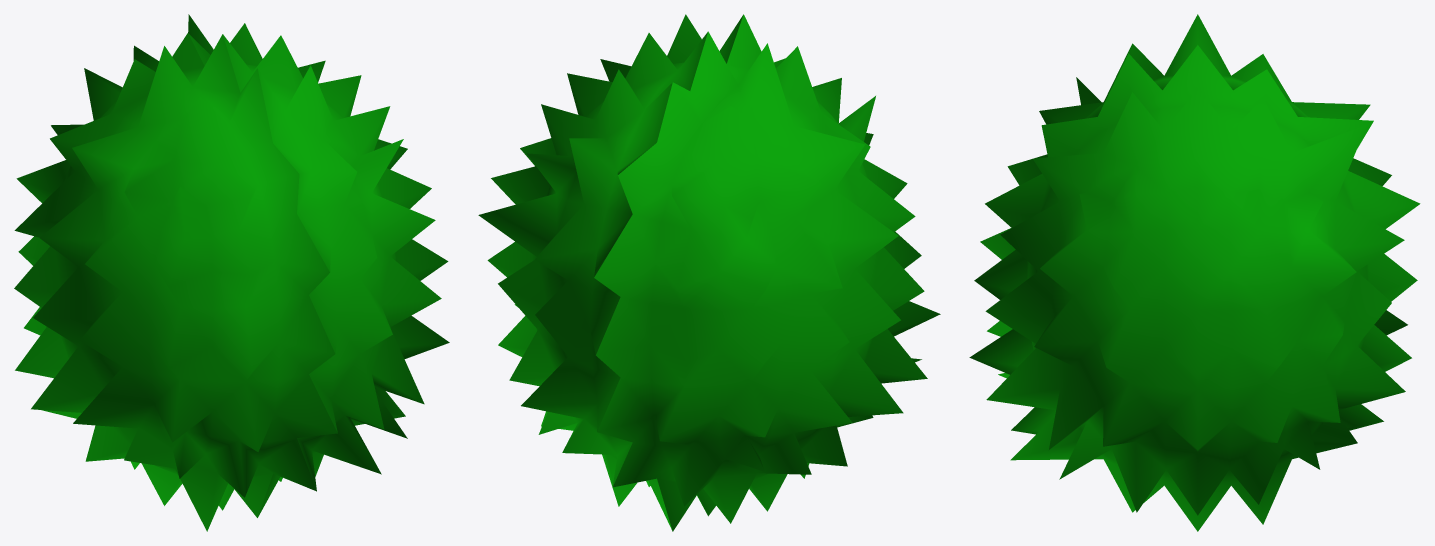
File: durian.fbx
The picture shows the model from 3 angles, left to right: view 1: azimuth 30°, elevation 25°; view 2: azimuth 150°, elevation 25°; view 3: azimuth 270°, elevation 25°; orthographic projection. The views are drawn at different scales.
Visible parts, largest first — view 1: polySurface3; view 2: polySurface3; view 3: polySurface3.
Part boxes in pixels (x1,y1,x2,y2): polySurface3: [14, 14, 449, 531]; polySurface3: [478, 14, 940, 531]; polySurface3: [969, 14, 1420, 531].
Bounding box in the file's own units: 3.48 × 4.15 × 3.57.
